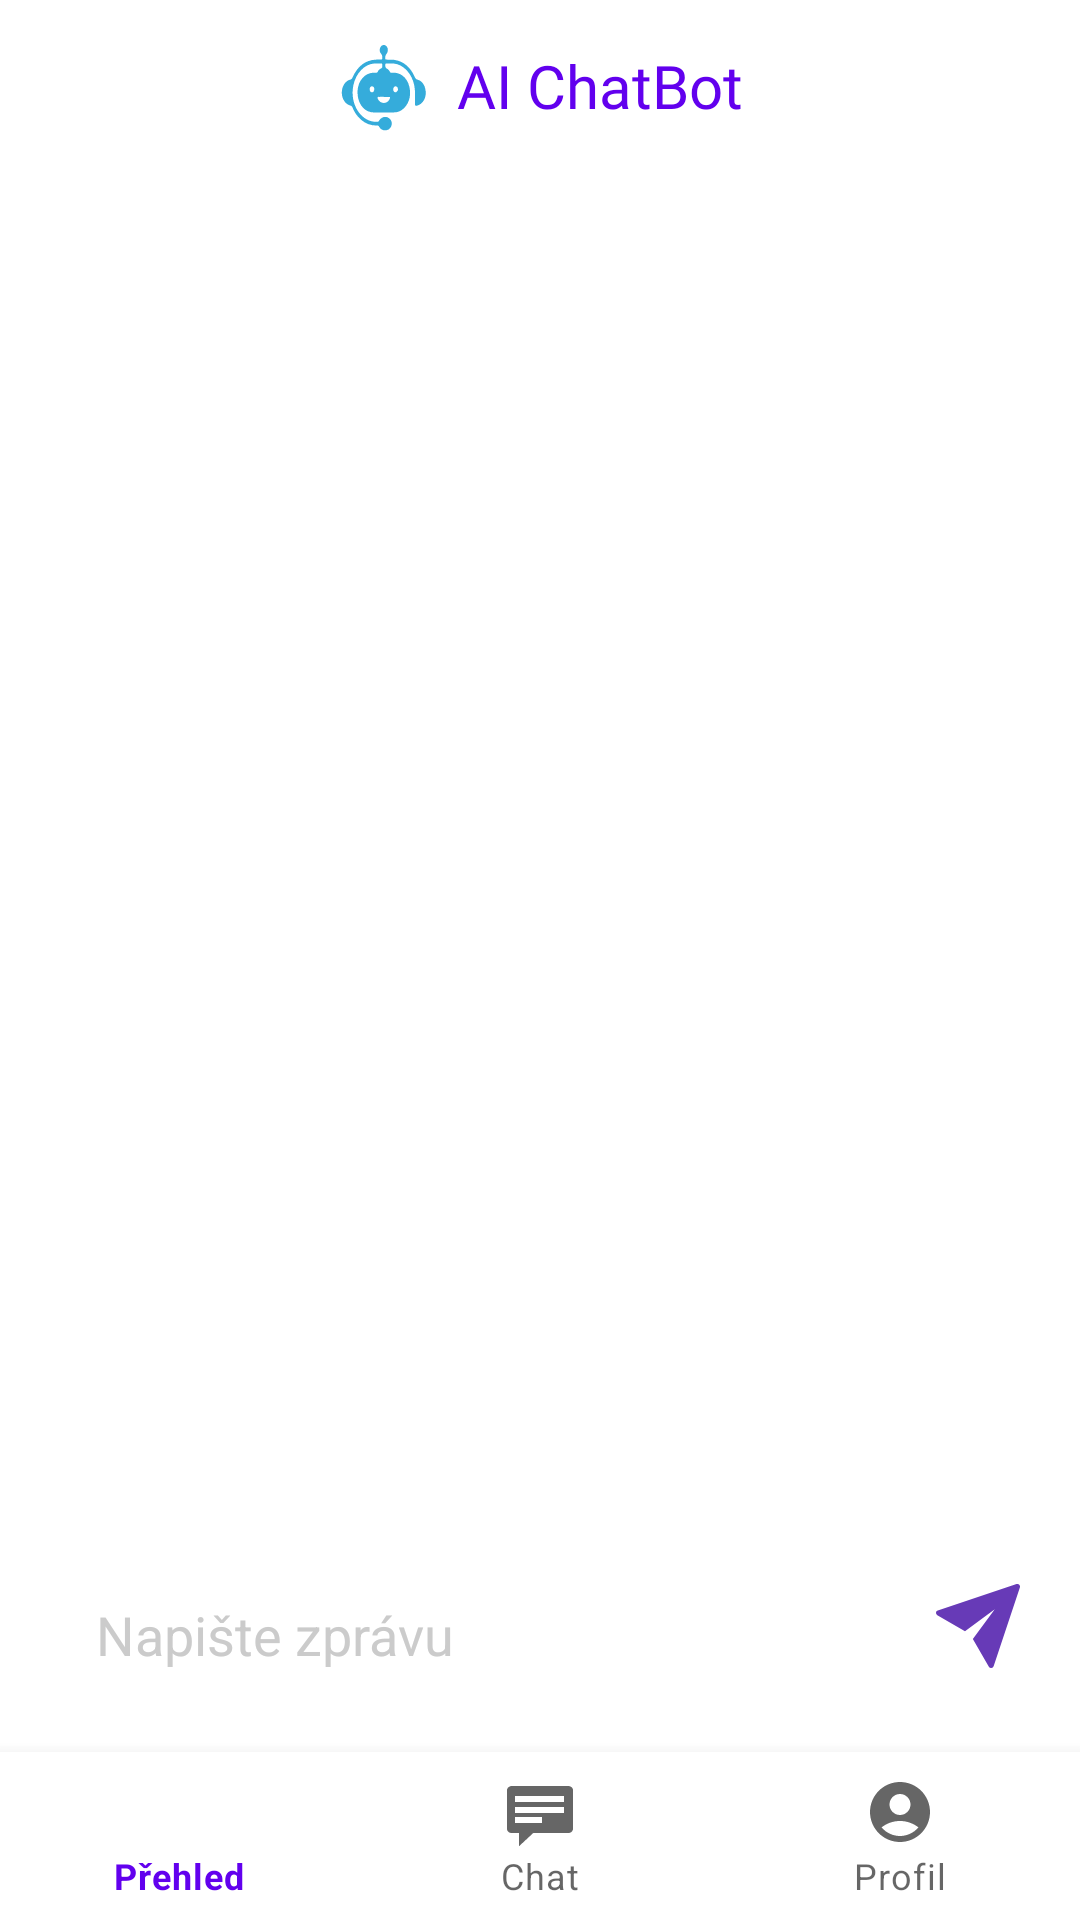

Icon bounding boxes for this 1080x1920 phone screenshot, format (x1, y1, x2, y2):
Obrázek AI: (341, 45, 426, 131)
Poslat zprávu: (936, 1584, 1020, 1668)
